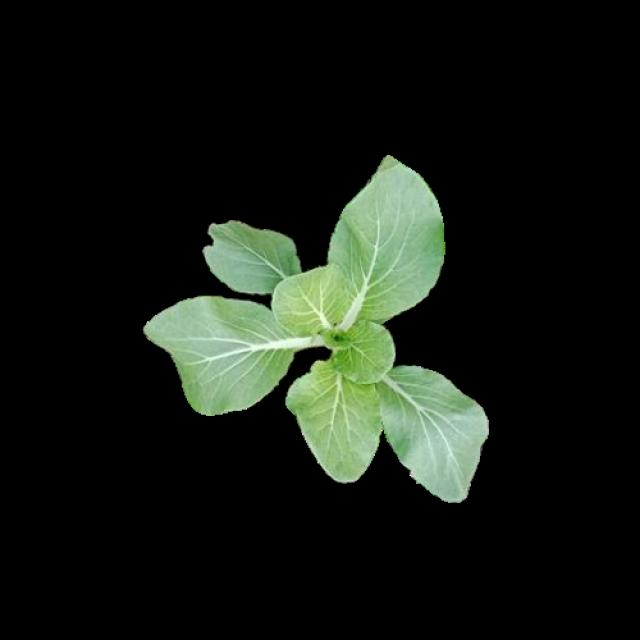healthy: (140, 180, 482, 498)
mature: (142, 162, 485, 500)
